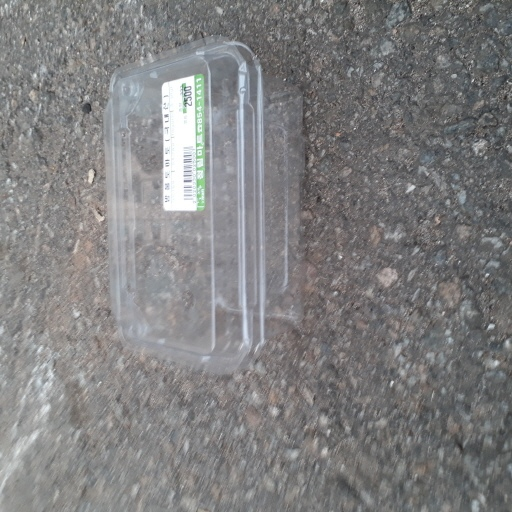Plastic_4: (101, 40, 302, 371)
